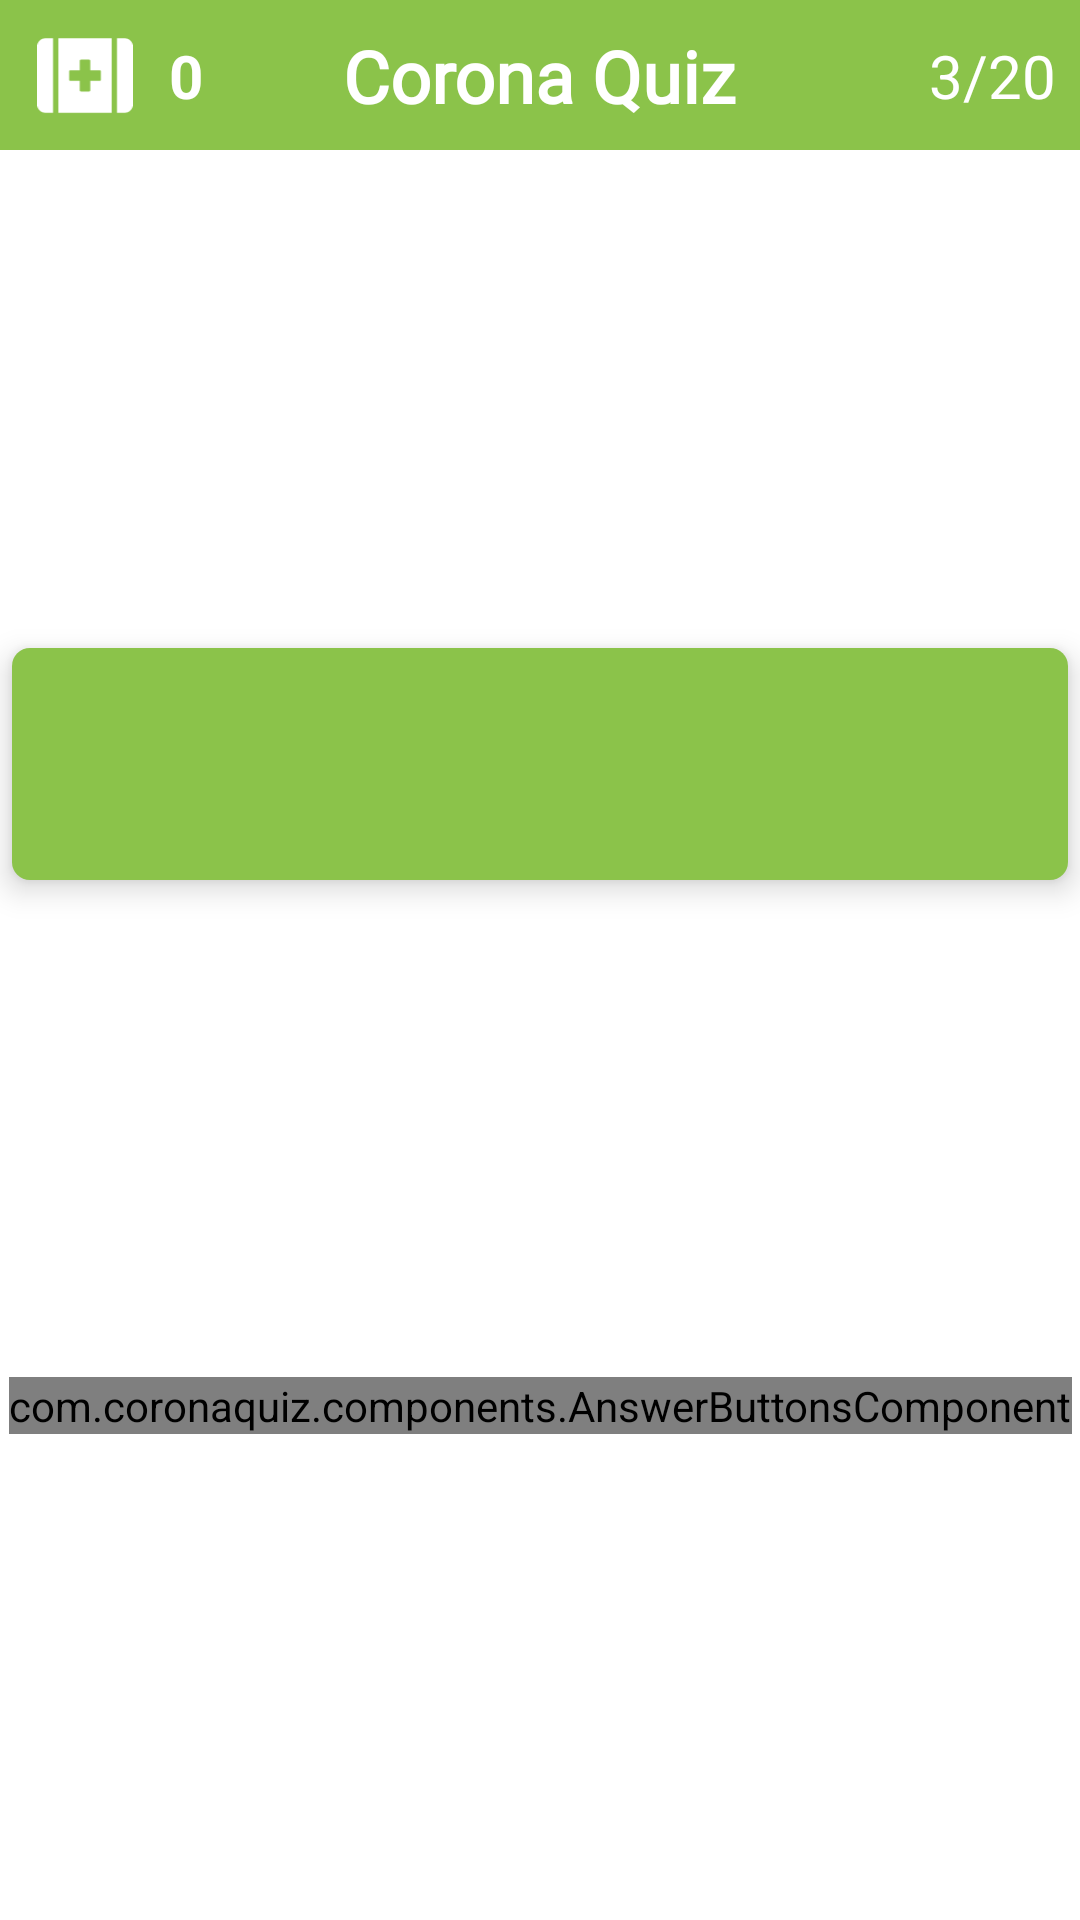

Icons on this 1080*1920 Android screen, each with its box as (x1, y1, x2, y2):
first aid: (37, 38, 133, 113)
